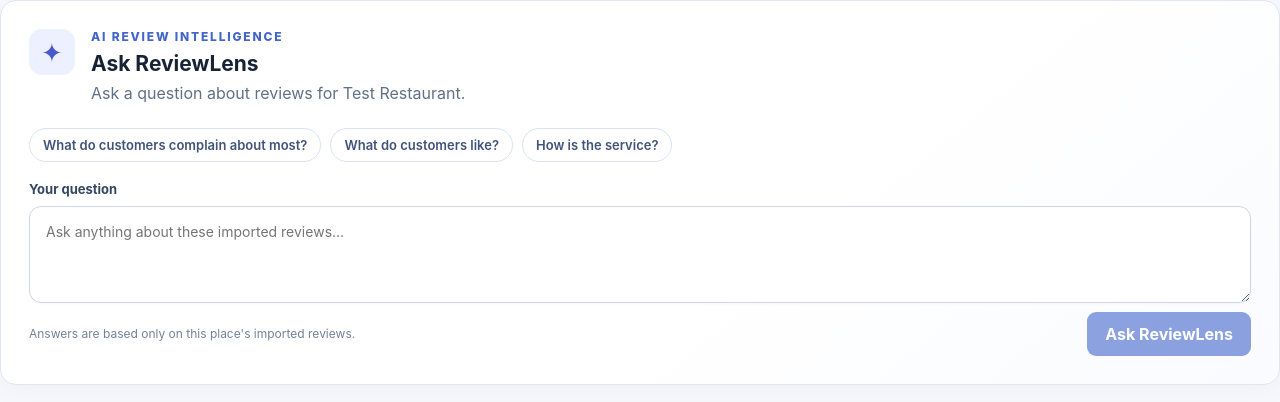
Scenario: ReviewQA › fills the question field when a suggested question is selected
This screenshot has width=1280, height=402.
Click the button "How is the service?" at (597, 145), box 522,128 -> 672,162
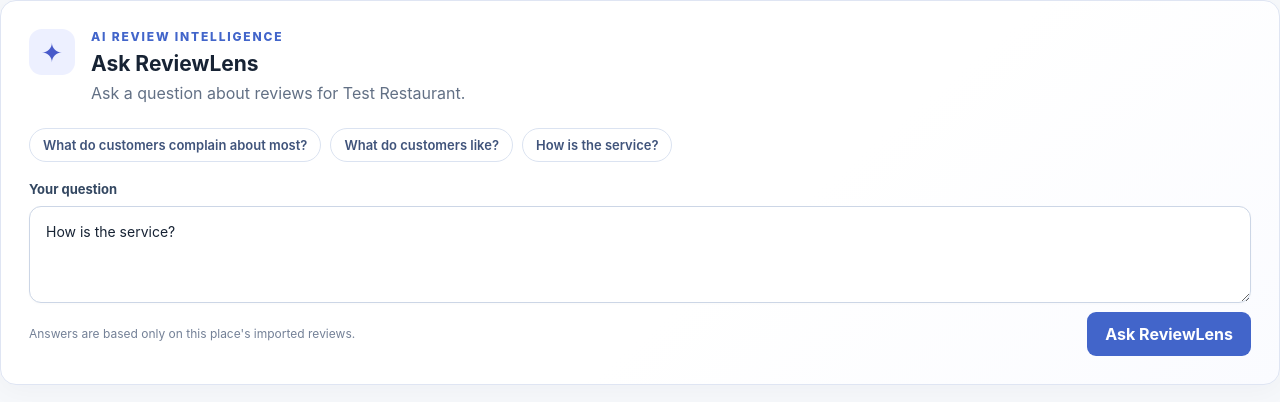
Result: the text box labelled "Your question" holds "How is the service?" at 29,206 -> 1251,303
